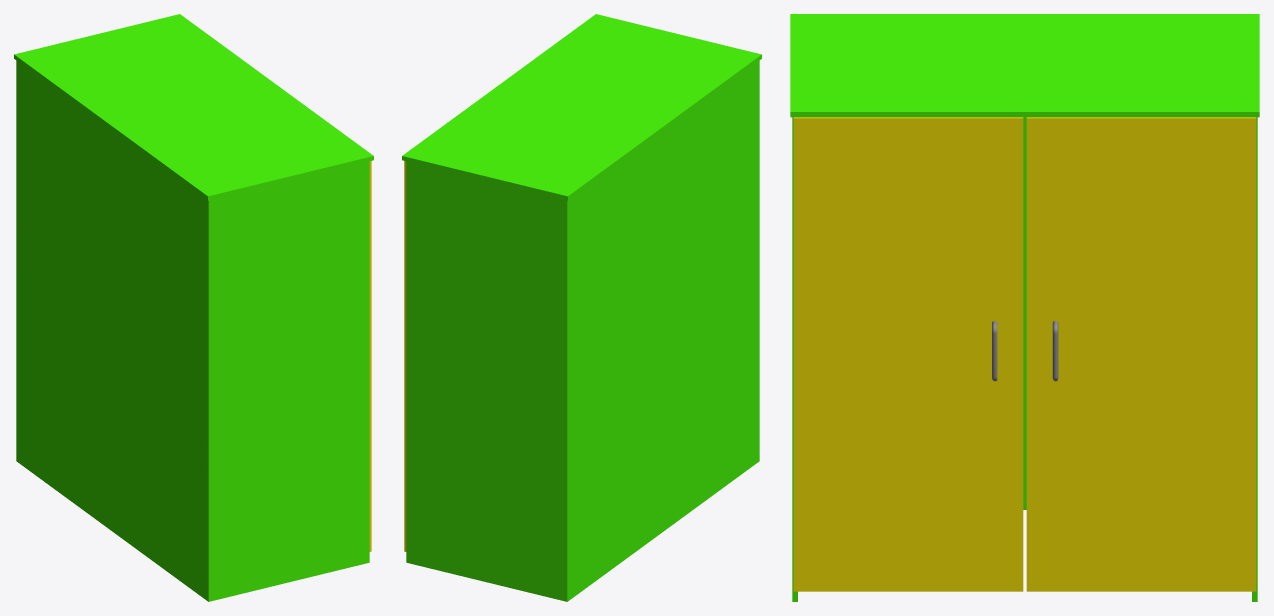
The model's file is tnk-01.fbx.
3 renders of one model, left to right at view 1: azimuth 30°, elevation 25°; view 2: azimuth 150°, elevation 25°; view 3: azimuth 270°, elevation 25°, orthographic. The views are drawn at different scales.
Visible parts, largest first — view 1: zelenieelementy, jeltieelementy; view 2: zelenieelementy, jeltieelementy; view 3: jeltieelementy, zelenieelementy, serieelementy.
Boxes of the visible parts, x1=… form: zelenieelementy: x1=14, y1=14, x2=373, y2=601; jeltieelementy: x1=369, y1=161, x2=371, y2=551; zelenieelementy: x1=402, y1=14, x2=761, y2=601; jeltieelementy: x1=404, y1=161, x2=406, y2=551; jeltieelementy: x1=793, y1=117, x2=1256, y2=591; zelenieelementy: x1=790, y1=14, x2=1259, y2=601; serieelementy: x1=992, y1=320, x2=1058, y2=381.
Size of the model in its own units: 64.02 by 141 by 122.
